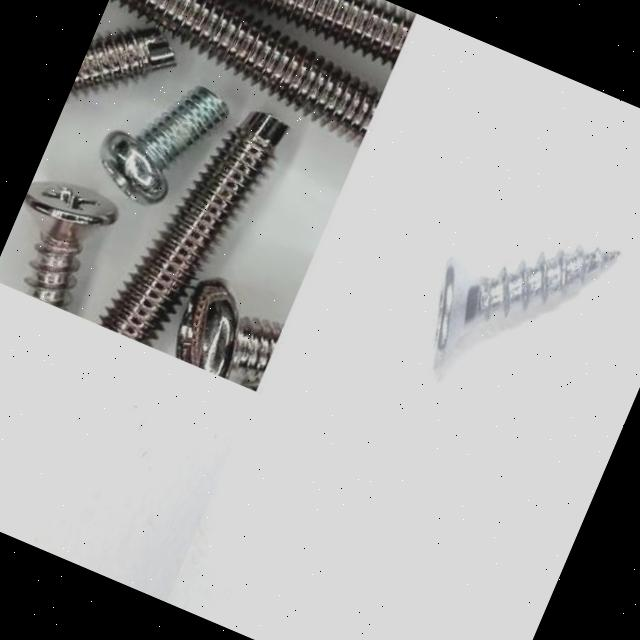Screw: (97, 112, 287, 346), (114, 0, 381, 146), (432, 245, 618, 371), (99, 86, 225, 205), (24, 182, 115, 311), (246, 0, 415, 66), (175, 280, 284, 379), (66, 27, 174, 98)
